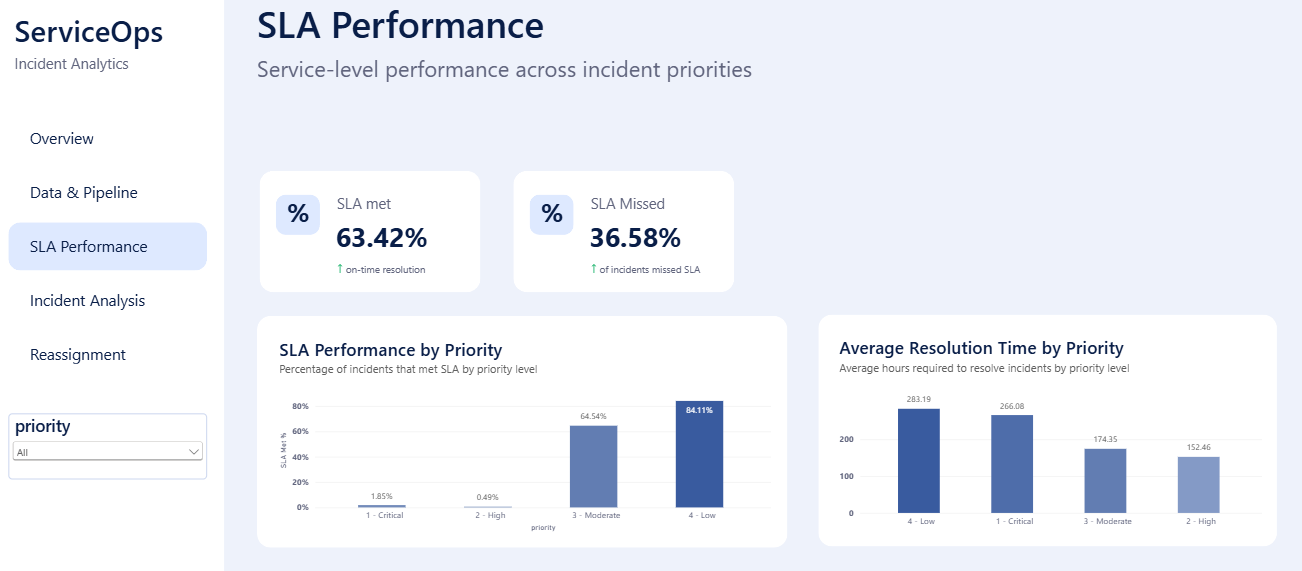

What the dashboard file says about the page in this screenshot:
{"tool":"powerbi","page":{"name":"SLA Performance","canvas":[1920,1080],"ordinal":2},"visuals":[{"type":"shape","box":[0,0,293.4,240],"z":0,"group":"g1"},{"type":"group","id":"g1","title":"Group 6","box":[0,0,293.4,240],"z":0},{"type":"textbox","box":[384,24,720,72],"z":0,"group":"g2"},{"type":"textbox","box":[32,40,240,64],"z":0,"group":"g3"},{"type":"shape","box":[386.7,273.7,320,176],"z":0,"group":"g4"},{"type":"shape","box":[754.7,273.7,320,176],"z":0,"group":"g5"},{"type":"shape","box":[0,-24,336,1104],"z":1000},{"type":"textbox","box":[64,48,160,64],"z":1000,"group":"g1"},{"type":"textbox","box":[32,104,240,32],"z":1000,"group":"g3"},{"type":"textbox","box":[384,104,800,48],"z":1000,"group":"g2"},{"type":"group","id":"g2","title":"Group 1","box":[384,24,800,128],"z":2000},{"type":"textbox","box":[62.9,132,167.7,72],"z":2000,"group":"g1"},{"type":"group","id":"g3","title":"Group 2","box":[32,40,240,96],"z":3000},{"type":"pageNavigator","box":[24,192,288,384],"z":4000},{"type":"group","id":"g4","title":"Group 3","box":[386.7,273.7,320,176],"z":5000},{"type":"group","id":"g5","title":"Group 3","box":[754.7,273.7,320,176],"z":6000},{"type":"shape","box":[384,484,768,336],"z":7000},{"type":"columnChart","title":"SLA Performance by Priority","fields":{"Category":["analytics fact_incidents.priority"],"Y":["analytics fact_incidents.SLA Met %"]},"box":[400,500,744,312],"z":8000},{"type":"shape","box":[1196,482,664.4,336],"z":9000,"group":"g6"},{"type":"group","id":"g6","title":"Group 4","box":[1196,482,672,336],"z":9000},{"type":"columnChart","title":"Average Resolution Time by Priority","fields":{"Category":["analytics fact_incidents.priority"],"Y":["analytics fact_incidents.Average Resolution Hours"]},"box":[1209.8,498,643.6,312],"z":10000,"group":"g6"},{"type":"slicer","fields":{"Values":["analytics fact_incidents.priority"]},"box":[24,624,288,96],"z":10000},{"type":"card","fields":{"Values":["analytics fact_incidents.SLA Met %"]},"box":[474.7,337.7,176,64],"z":14000,"group":"g4"},{"type":"card","fields":{"Values":["analytics fact_incidents.SLA Missed %"]},"box":[842.7,337.7,176,64],"z":14000,"group":"g5"},{"type":"textbox","box":[498.7,305.7,144,33.5],"z":15000,"group":"g4"},{"type":"textbox","box":[866.7,305.7,144,33.5],"z":15000,"group":"g5"},{"type":"shape","box":[410.7,307.2,64,58.7],"z":16000,"group":"g4"},{"type":"shape","box":[778.7,307.2,64,58.7],"z":16000,"group":"g5"},{"type":"textbox","box":[426.7,307.2,40,58.7],"z":17000,"group":"g4"},{"type":"textbox","box":[794.7,307.2,40,58.7],"z":17000,"group":"g5"},{"type":"textbox","box":[498.7,401.7,144,33.5],"z":18000,"group":"g4"},{"type":"textbox","box":[866.7,401.7,176,32],"z":18000,"group":"g5"}]}

Visuals, with their boxes on the page's 1920x1080 design canvas (x1, y1, x2, y2). These are canvas units, not pixel positions in the 1302x571 screenshot, which may show the page scaled, cropped or inside an application window:
shape: 0/0/293/240
"Group 6" group: 0/0/293/240
textbox: 384/24/1104/96
textbox: 32/40/272/104
shape: 387/274/707/450
shape: 755/274/1075/450
shape: 0/-24/336/1080
textbox: 64/48/224/112
textbox: 32/104/272/136
textbox: 384/104/1184/152
"Group 1" group: 384/24/1184/152
textbox: 63/132/231/204
"Group 2" group: 32/40/272/136
pageNavigator: 24/192/312/576
"Group 3" group: 387/274/707/450
"Group 3" group: 755/274/1075/450
shape: 384/484/1152/820
"SLA Performance by Priority" columnChart: 400/500/1144/812
shape: 1196/482/1860/818
"Group 4" group: 1196/482/1868/818
"Average Resolution Time by Priority" columnChart: 1210/498/1853/810
slicer - analytics fact_incidents.priority: 24/624/312/720
card - analytics fact_incidents.SLA Met %: 475/338/651/402
card - analytics fact_incidents.SLA Missed %: 843/338/1019/402
textbox: 499/306/643/339
textbox: 867/306/1011/339
shape: 411/307/475/366
shape: 779/307/843/366
textbox: 427/307/467/366
textbox: 795/307/835/366
textbox: 499/402/643/435
textbox: 867/402/1043/434
